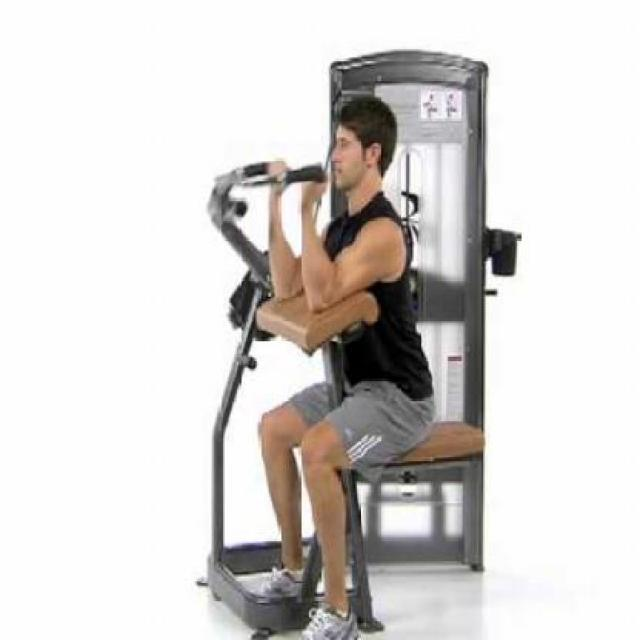arm curl machine: (198, 47, 519, 640)
